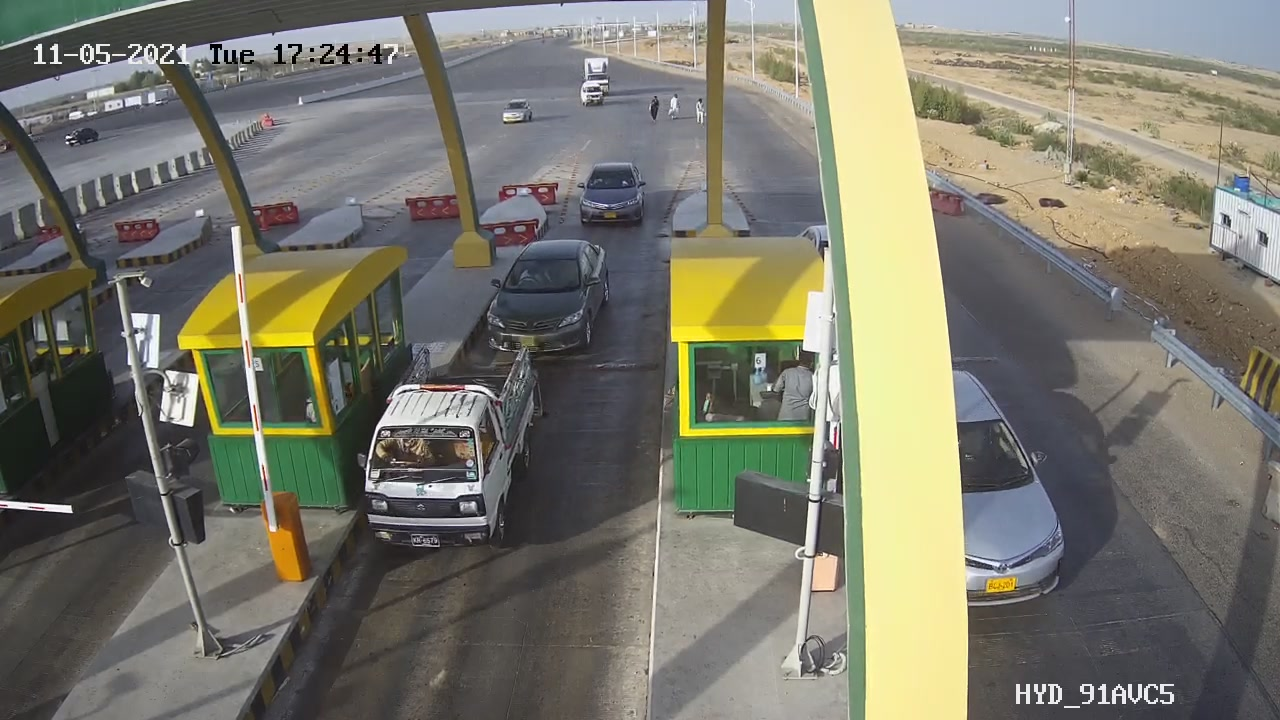F1: (466, 225, 626, 366)
